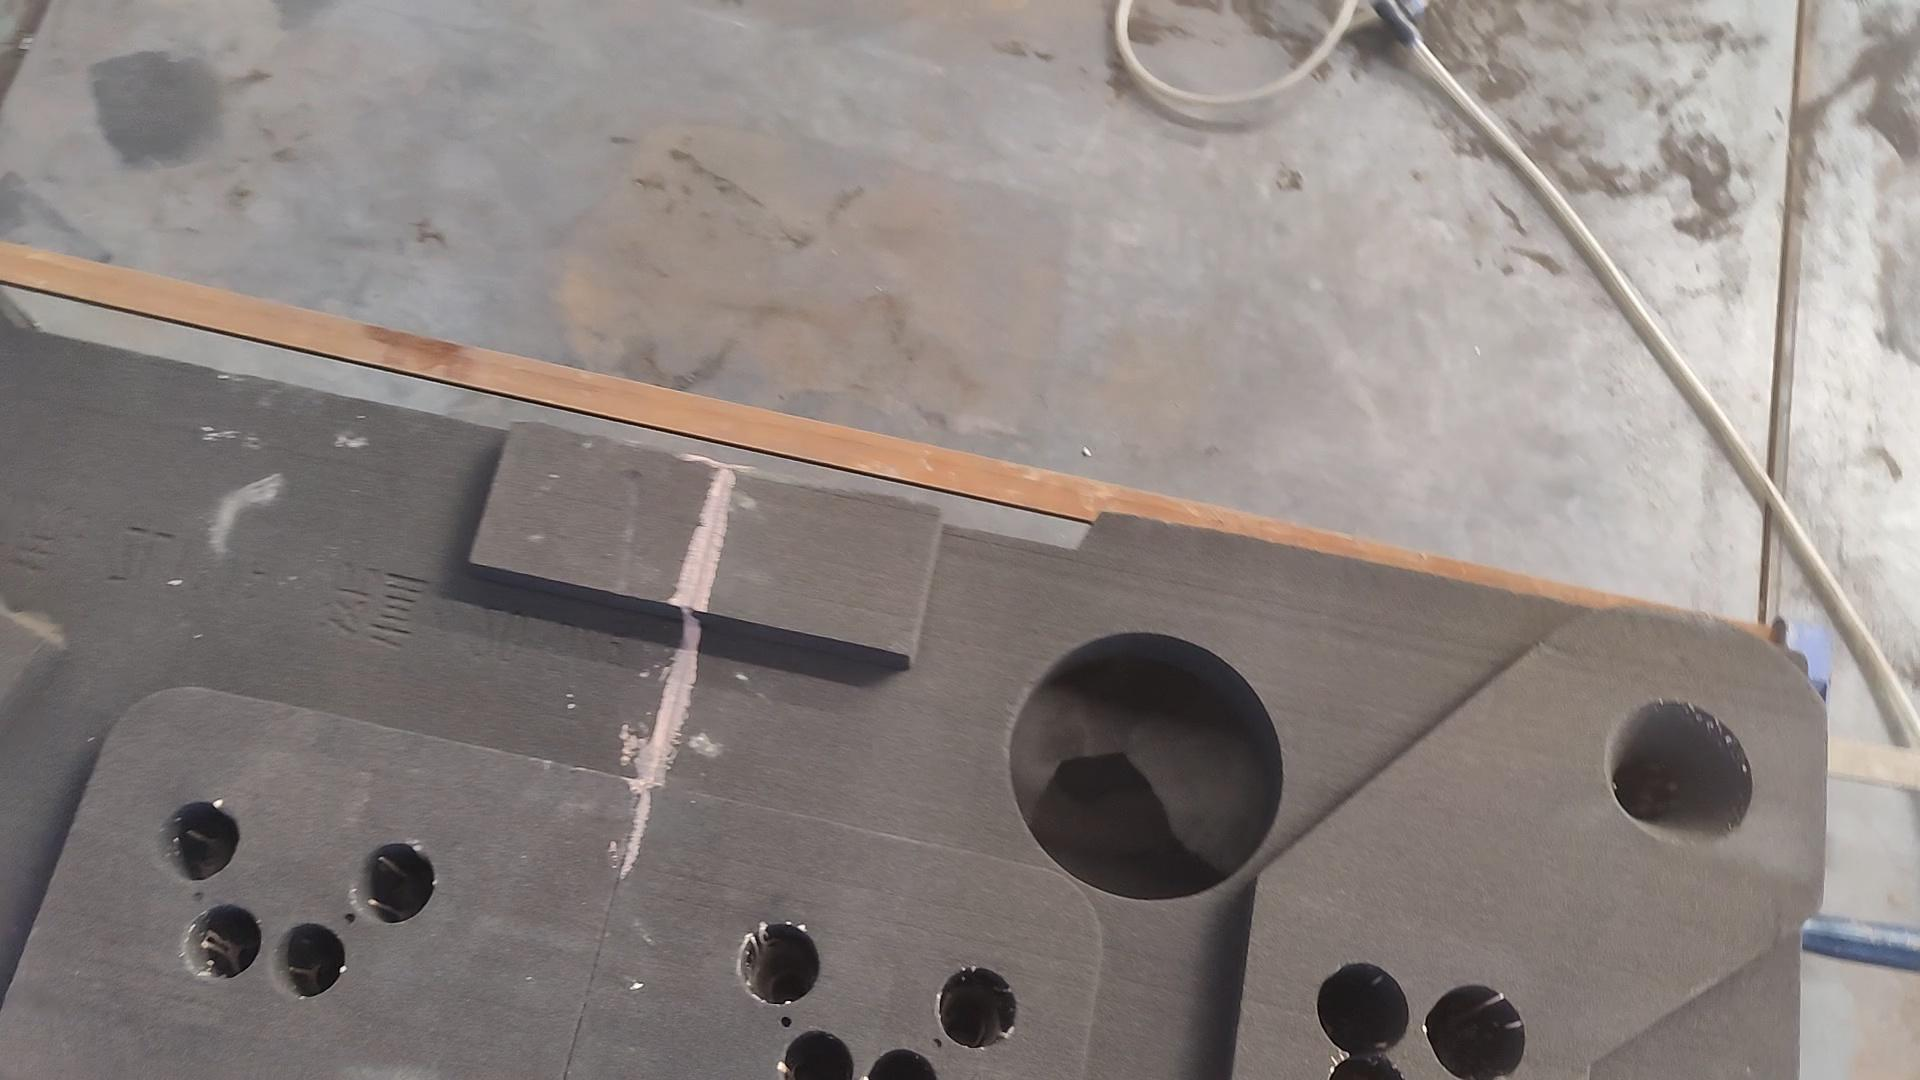pouring hole: (1606, 698, 1753, 844)
